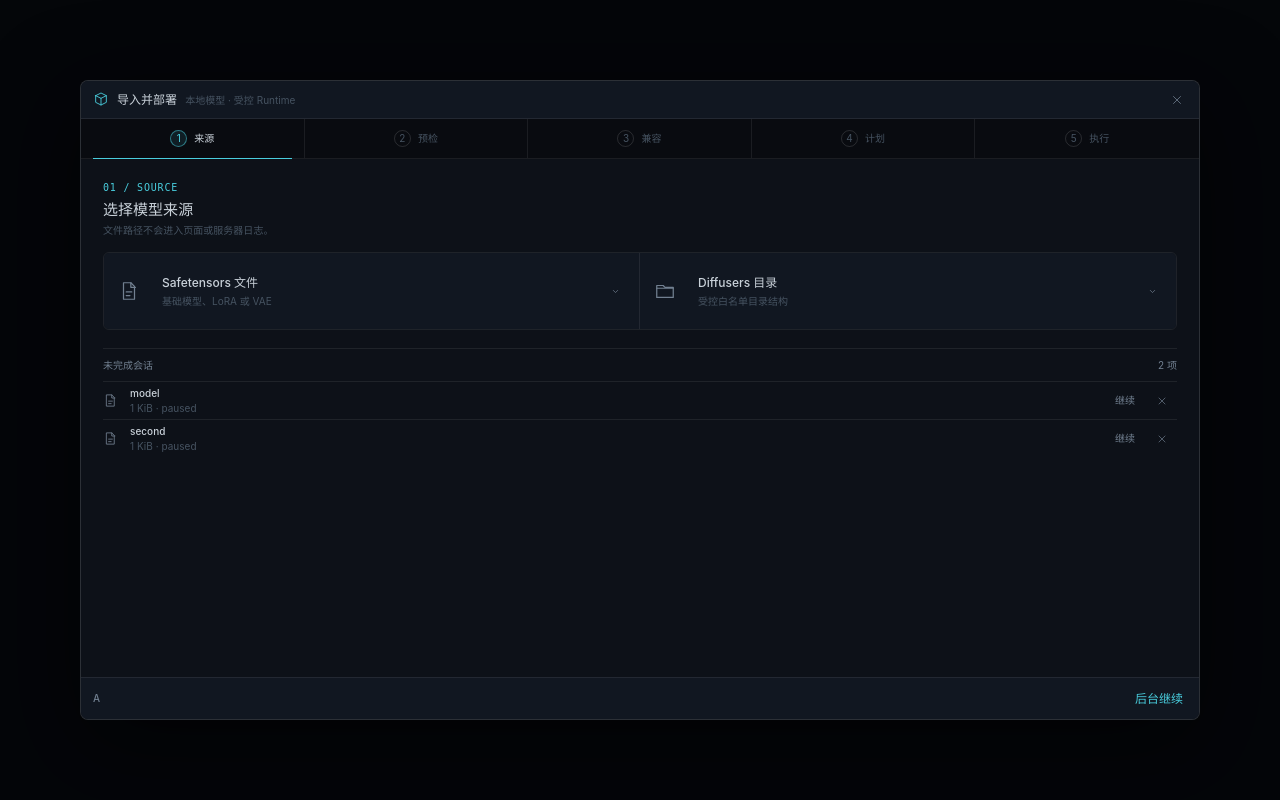
Test: ModelImportWizard resume › keeps the new session when an older same-server read completes late
Click the button "继续" in the row of "model" at (1125, 401), box x1=1108 y1=387 x2=1142 y2=414
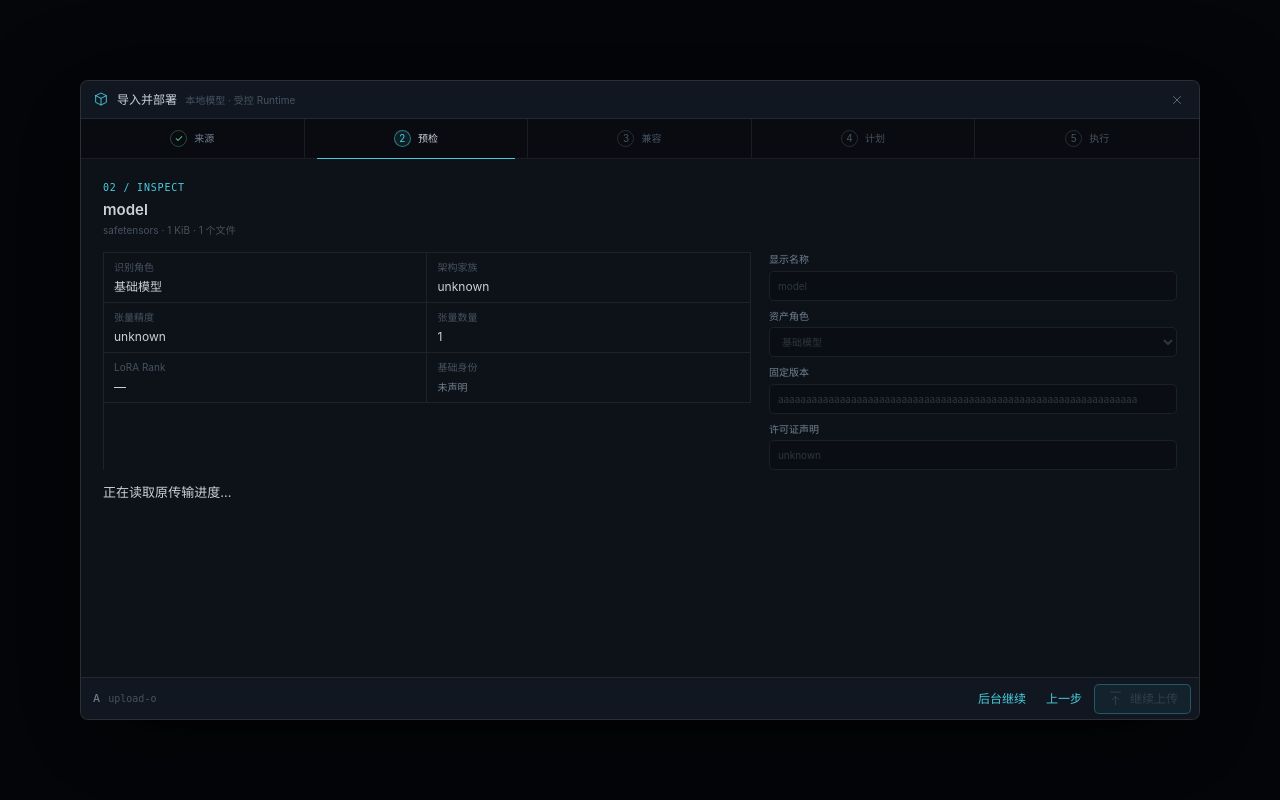
Click the button "上一步" at (1064, 698), box x1=1038 y1=684 x2=1090 y2=712
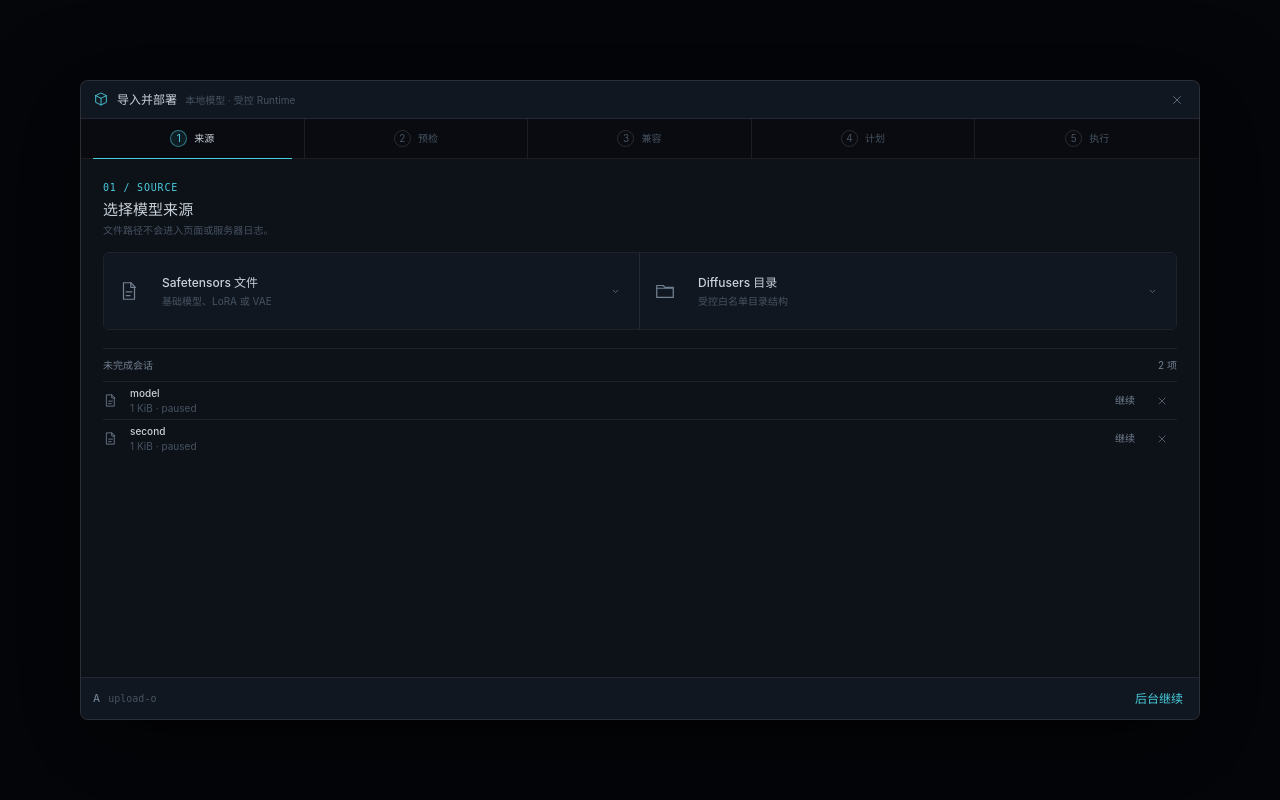
Click the button "继续" in the row of "second" at (1125, 439), box x1=1108 y1=425 x2=1142 y2=452
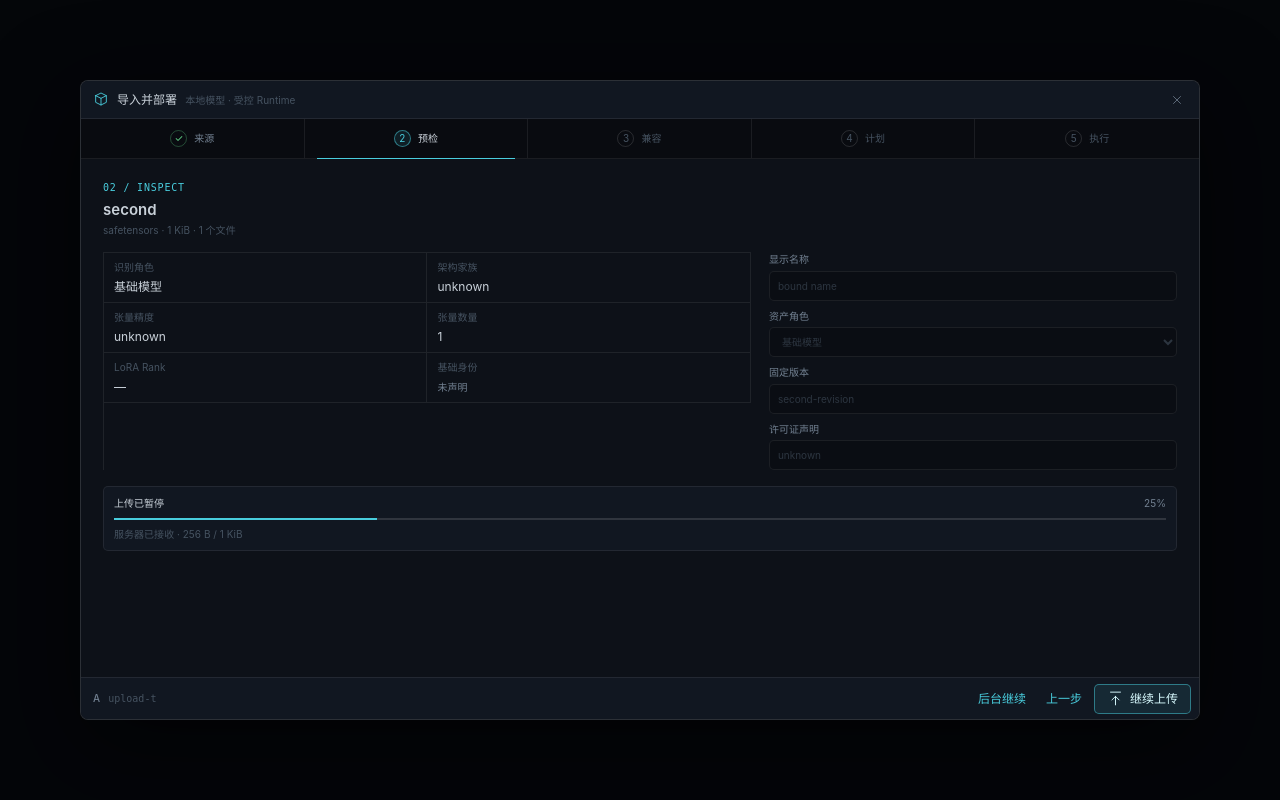
expect the element with class "import-live-progress" shows "25%": met, box x1=1144 y1=497 x2=1166 y2=509
expect the field labelled "固定版本" holds "second-revision": met, box x1=769 y1=384 x2=1177 y2=414
